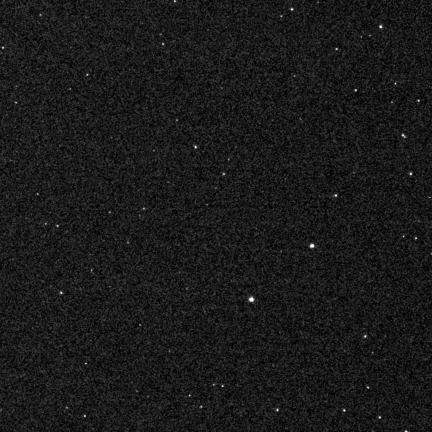blob: (249, 297, 255, 303), (310, 244, 314, 248)
